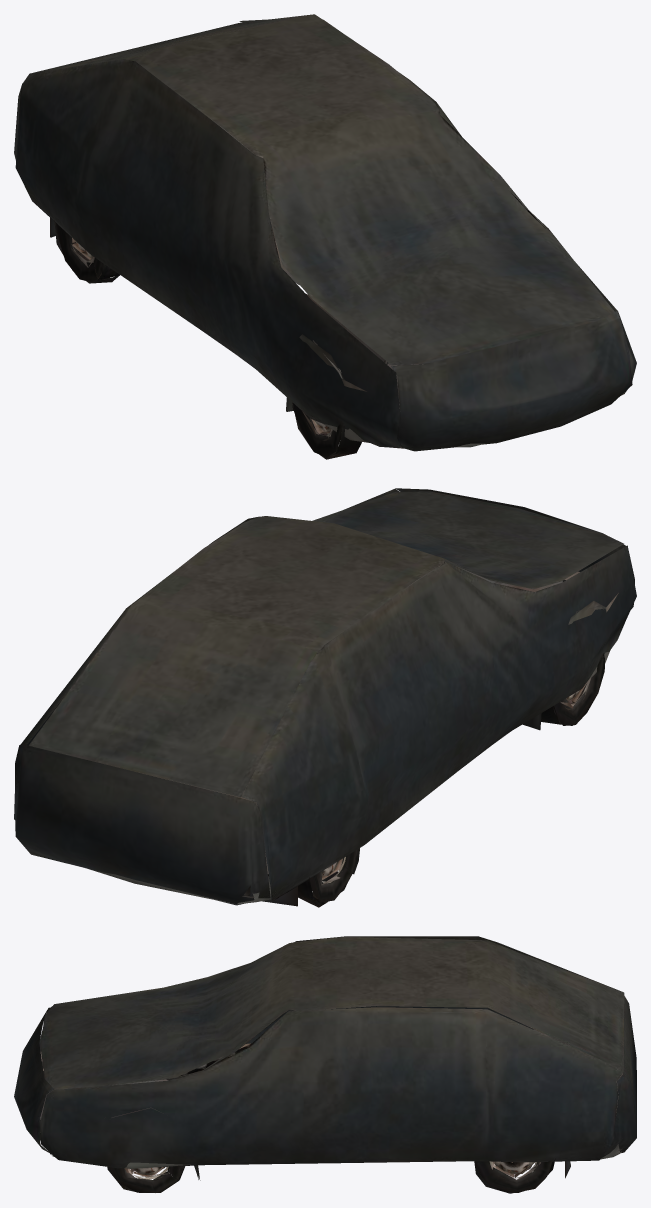
The model's file is car.gltf.
3 renders of one model, top to bottom at view 1: azimuth 30°, elevation 25°; view 2: azimuth 150°, elevation 25°; view 3: azimuth 270°, elevation 25°, orthographic. The views are drawn at different scales.
Visible parts, largest first — view 1: car; view 2: car; view 3: car.
Boxes of the visible parts, x1,y1,x2,y2 form: car: (14,14,636,459); car: (14,488,636,907); car: (14,936,636,1193).
Size of the model in its own units: 1.8 by 1.4 by 4.38.
Materials: 1 (1 with a texture image).
